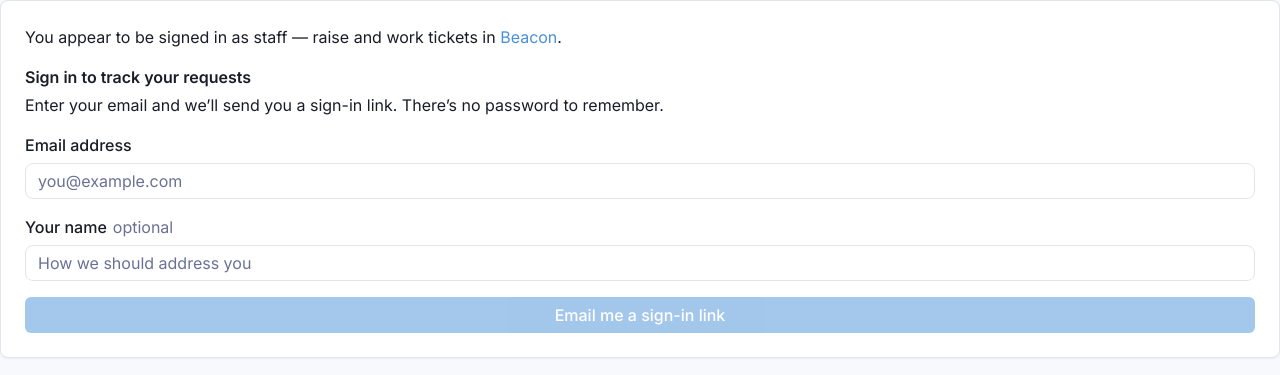
Test case: the portal sign-in staff signpost › renders when an internal session is present, and the guest form still submits
Expected: the element with test id "portal-staff-signpost" shows "signed in as staff", [25,27,496,47]
Expected: the element with test id "portal-staff-signpost" shows "raise and work tickets in Beacon", [25,27,562,47]
Note: The guest form beneath the signpost is fully usable.
Type "dana@customer.example" into the field with test id "portal-email". click: (640,181)
box: [25,163,1255,199]
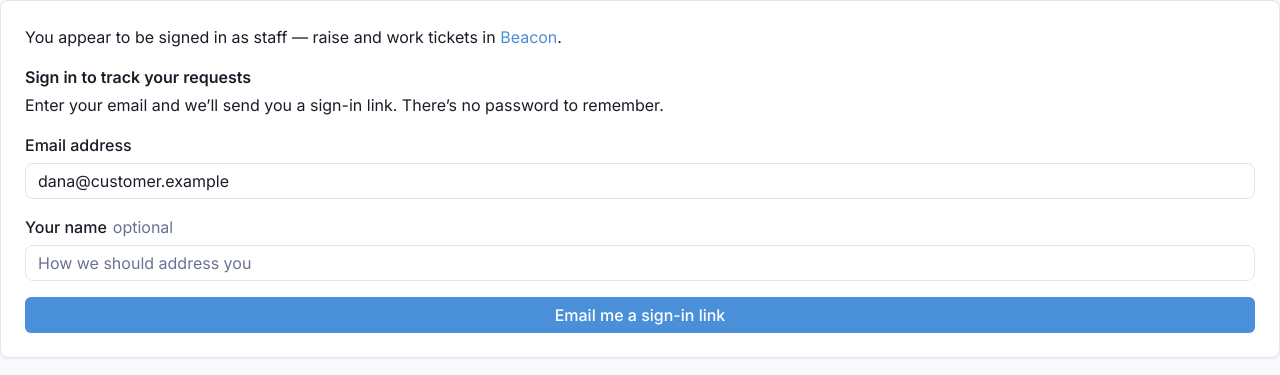
Click the button with test id "portal-signin-submit". click: (640,315)
box: [25,297,1255,333]
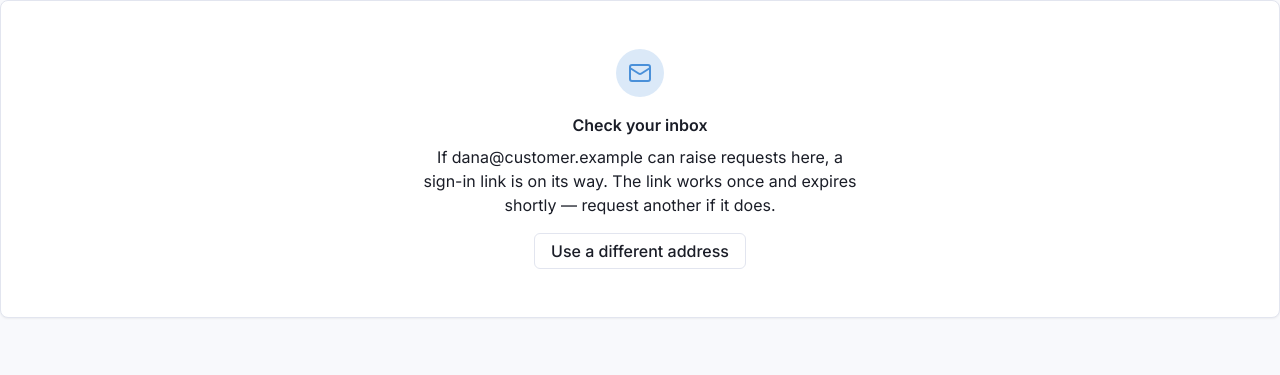
Now the element with test id "portal-link-sent" is shown, box [424,49,856,269]
